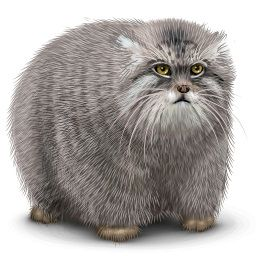cat: (107, 24, 232, 146)
